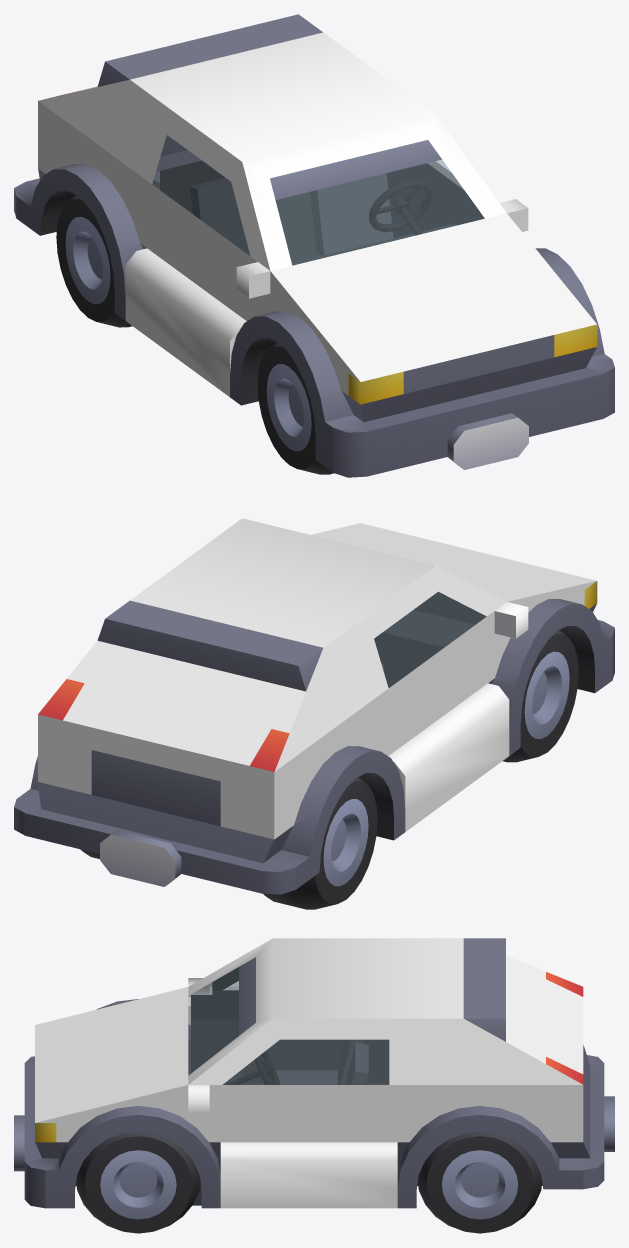
File: hatch.glb
3 renders of one model, top to bottom at view 1: azimuth 30°, elevation 25°; view 2: azimuth 150°, elevation 25°; view 3: azimuth 270°, elevation 25°, orthographic. The views are drawn at different scales.
Parts seen in each view (by area): view 1: paint, body, interior, door-front-right-paint, glass, wheel-back-right, wheel-front-right, door-front-right-glass, steering-wheel, door-front-left-trim; view 2: paint, body, door-front-right-paint, wheel-back-right, wheel-front-right, interior, door-front-right-glass; view 3: paint, body, door-front-left-paint, wheel-front-left, wheel-back-left, interior, door-front-left-glass, glass, steering-wheel, door-front-right-trim.
Boxes of the visible parts, left/top/right/bottom form: paint: left=38, top=32, right=596, bottom=396; body: left=14, top=14, right=614, bottom=477; interior: left=160, top=160, right=484, bottom=265; door-front-right-paint: left=130, top=182, right=262, bottom=371; glass: left=276, top=160, right=484, bottom=265; wheel-back-right: left=56, top=180, right=159, bottom=327; wheel-front-right: left=257, top=342, right=333, bottom=474; door-front-right-glass: left=152, top=135, right=249, bottom=255; steering-wheel: left=369, top=179, right=432, bottom=235; door-front-left-trim: left=416, top=163, right=481, bottom=213; paint: left=38, top=518, right=596, bottom=839; body: left=14, top=581, right=614, bottom=894; door-front-right-paint: left=388, top=577, right=509, bottom=803; wheel-back-right: left=263, top=777, right=377, bottom=909; wheel-front-right: left=485, top=616, right=578, bottom=762; interior: left=374, top=592, right=485, bottom=687; door-front-right-glass: left=374, top=592, right=486, bottom=687; paint: left=35, top=938, right=583, bottom=1208; body: left=14, top=938, right=614, bottom=1208; door-front-left-paint: left=212, top=1039, right=389, bottom=1186; wheel-front-left: left=76, top=1132, right=200, bottom=1233; wheel-back-left: left=417, top=1132, right=542, bottom=1233; interior: left=191, top=995, right=389, bottom=1205; door-front-left-glass: left=223, top=1040, right=388, bottom=1084; glass: left=188, top=967, right=238, bottom=1074; steering-wheel: left=226, top=1051, right=280, bottom=1084; door-front-right-trim: left=212, top=967, right=389, bottom=1084.
Bounding box in the file's own units: 2.01 × 1.71 × 4.42.
Materials: 4 (1 with a texture image).
